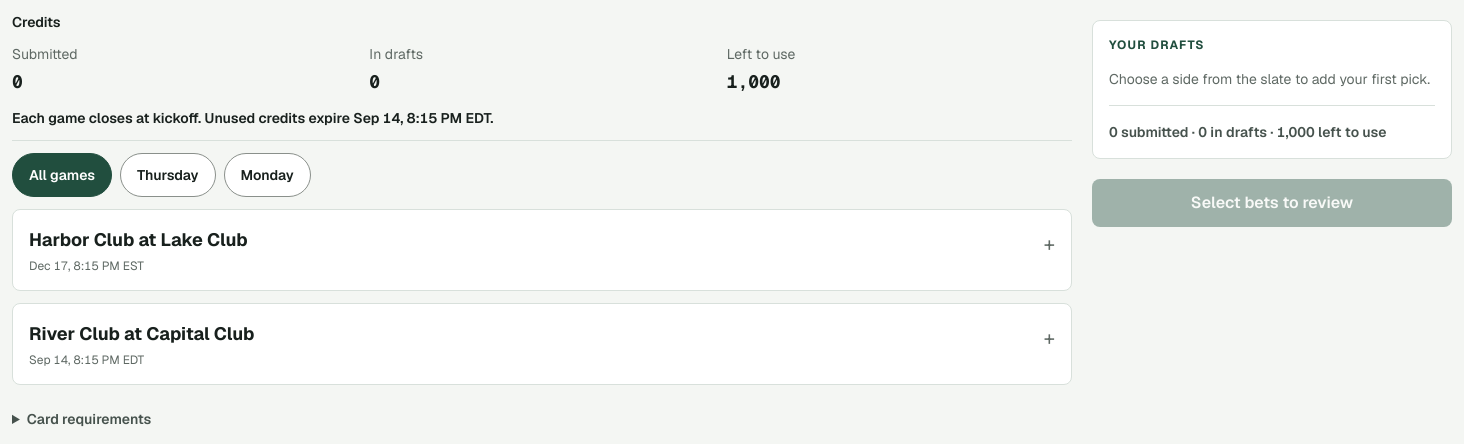
rolling member submission flow › offers Thursday only when that window is in the slate
The image size is (1464, 444).
Click the button "Thursday".
click(168, 175)  # box [120,153,216,197]
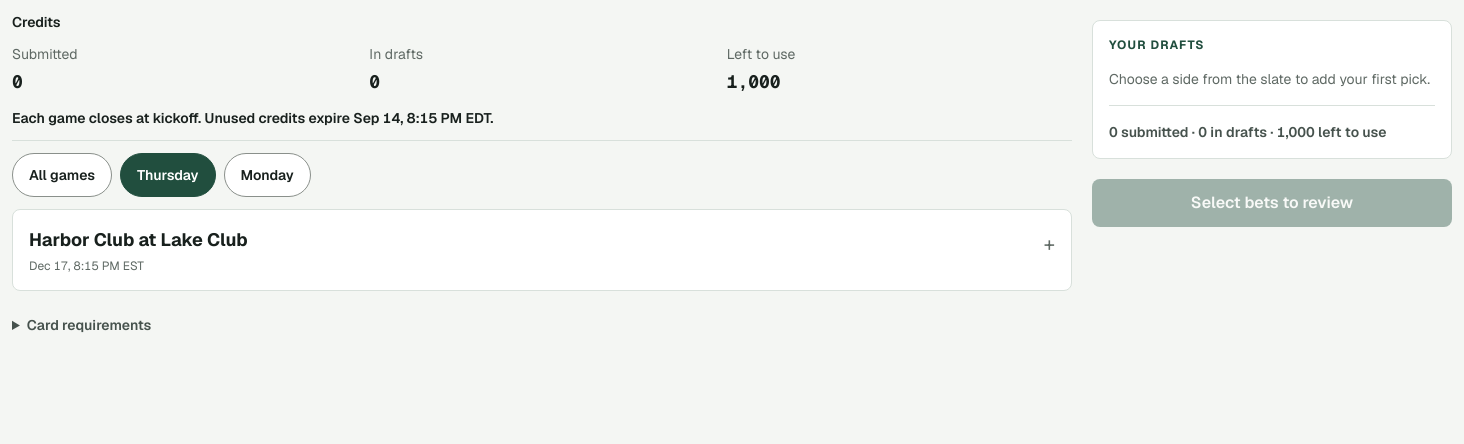
expect the element "Harbor Club at Lake Club" is shown: met, box [12,209,1072,291]
expect the heading "River Club at Capital Club" is gone: met
